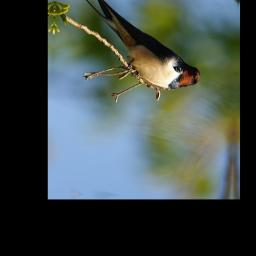Swallow: (59, 0, 205, 90)
